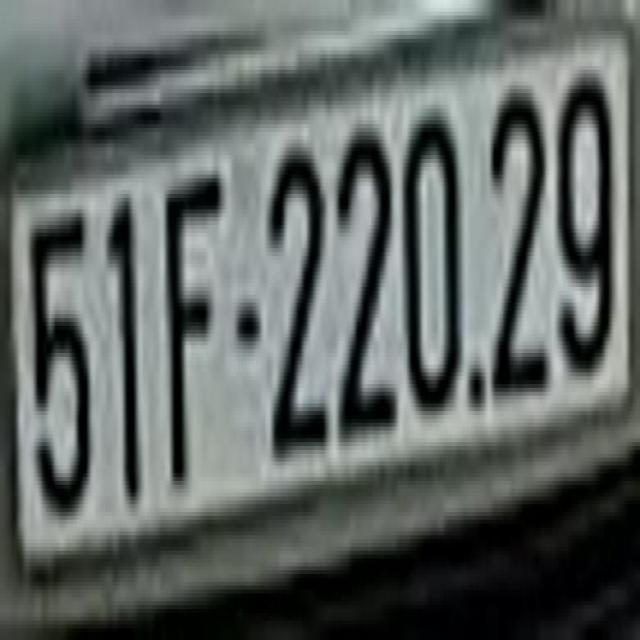0: (401, 101, 464, 419)
1: (104, 166, 148, 496)
2: (490, 78, 552, 392), (268, 124, 326, 458), (336, 112, 394, 434)
5: (30, 206, 91, 520)
9: (557, 50, 620, 392)
F: (160, 175, 226, 484)
